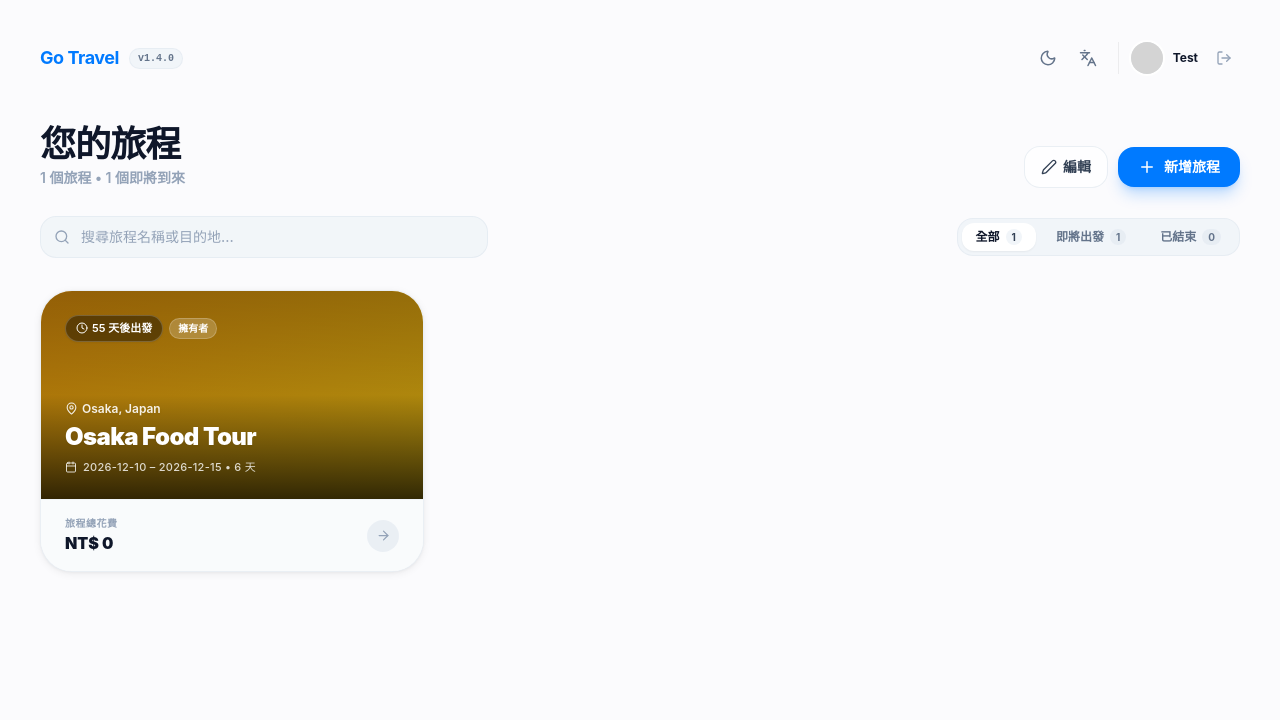
App Component (Smoke Test) › allows deleting a trip from the Your Trips list view using DeleteTripModal
The width and height of the screenshot is (1280, 720).
Expected: the heading "Osaka Food Tour" is shown, [65,422,256,450]
Click the Edit Mode button in header to reveal delete icons
Click the button with test id "toggle-edit-mode-btn" at (1066, 167), box [1024,146,1108,188]
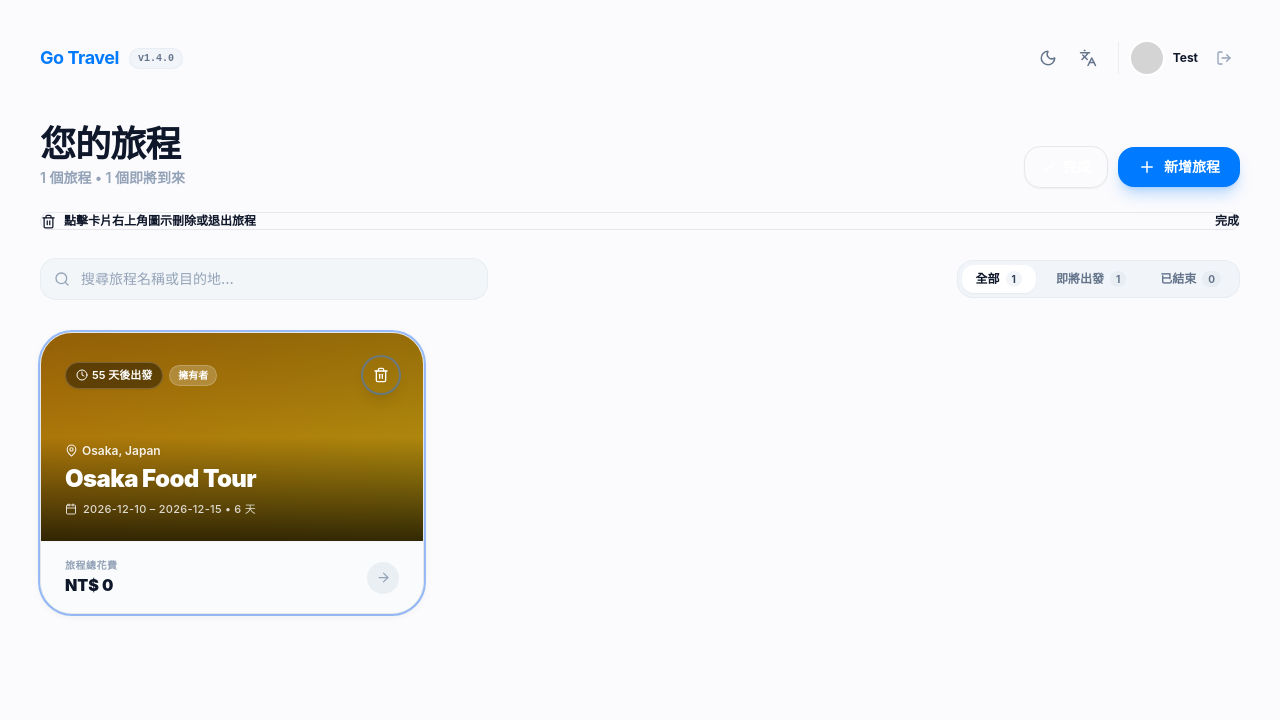
Now the button with test id "trip-delete-btn" is shown
Click the button with test id "trip-delete-btn" at (381, 375), box [363,357,399,393]
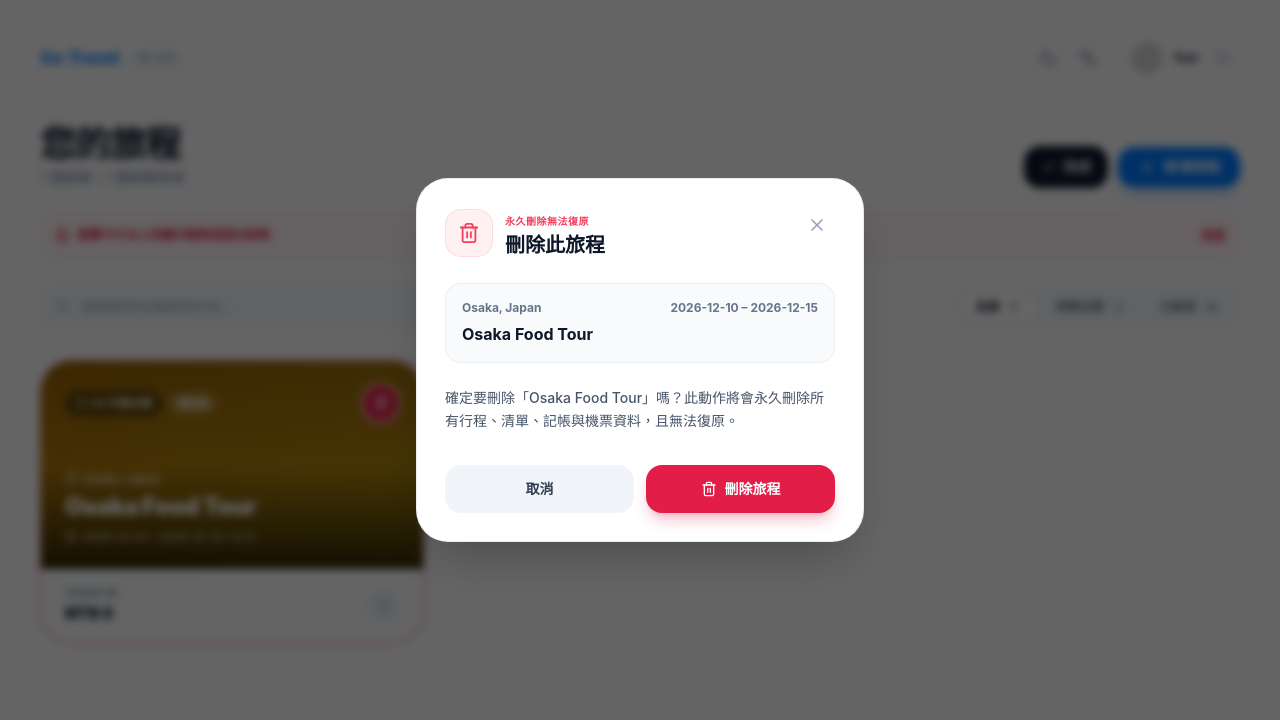
Expected: the heading "Osaka Food Tour" is shown, [65,492,256,520]
Now the dialog is shown
Now the heading "刪除此旅程" is shown, box [505,231,605,259]
Click the button with test id "confirm-trip-action-btn" at (740, 489), box [646,465,835,513]
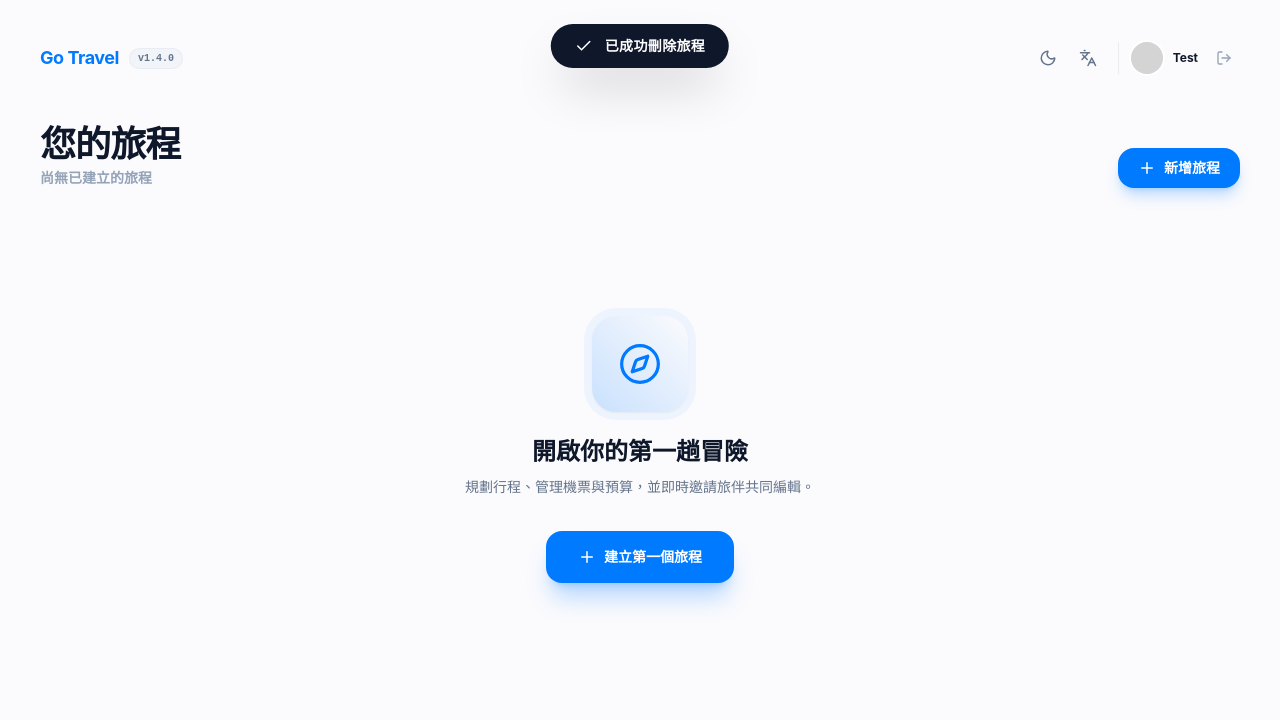
Now the button "Osaka Food Tour" is gone
